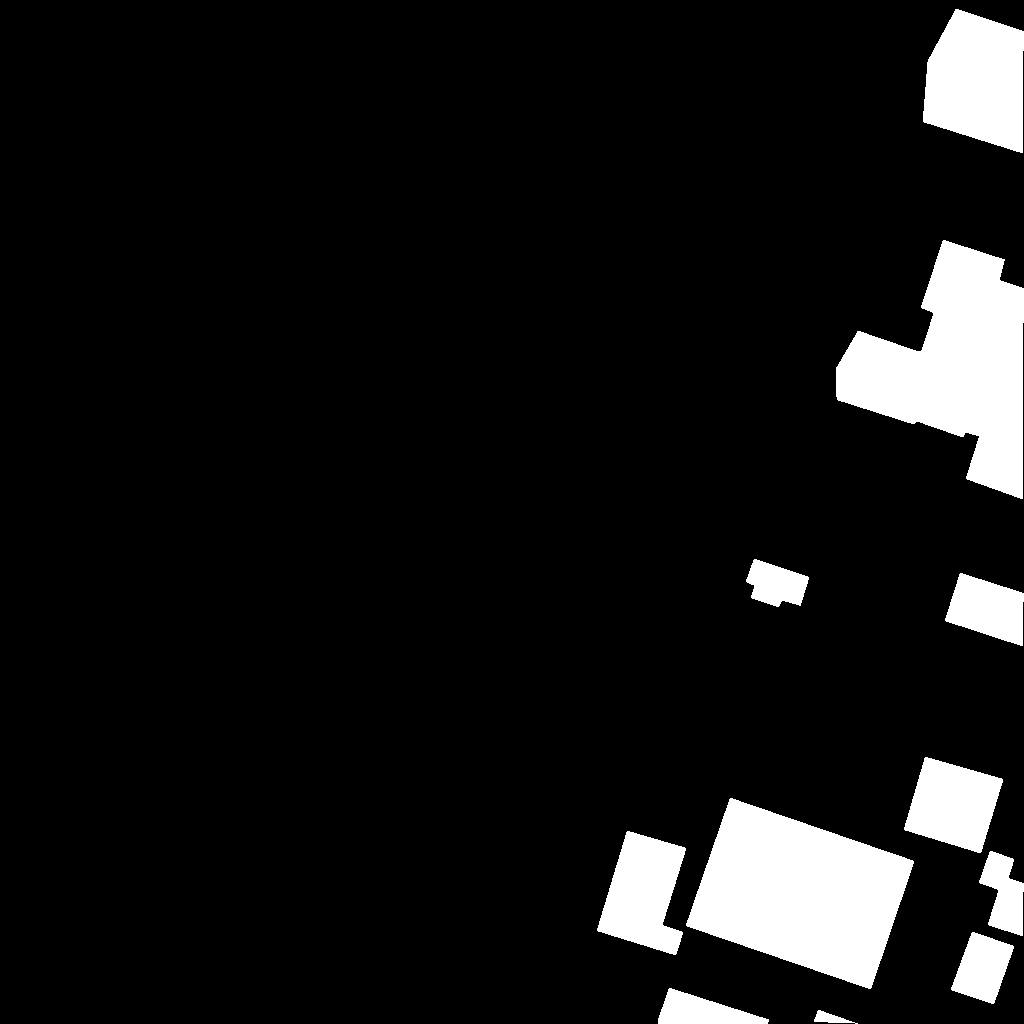building: (836, 240, 1024, 500), (686, 798, 915, 990), (923, 9, 1024, 154), (597, 831, 687, 956), (904, 757, 1004, 854), (658, 988, 859, 1024), (945, 573, 1024, 647), (951, 932, 1015, 1005), (979, 851, 1024, 937), (746, 559, 810, 608)
